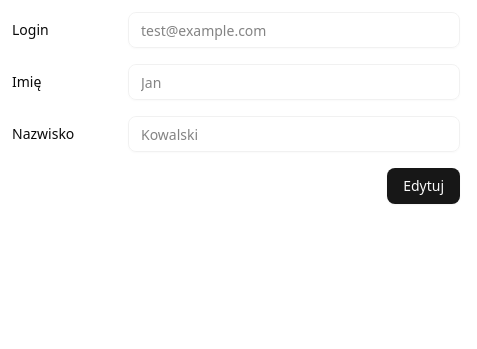
it: Komponent UserProfile › wyświetla błędy walidacji dla nieprawidłowego imienia
Click the button "Edytuj" at (424, 186), box [387, 168, 460, 204]
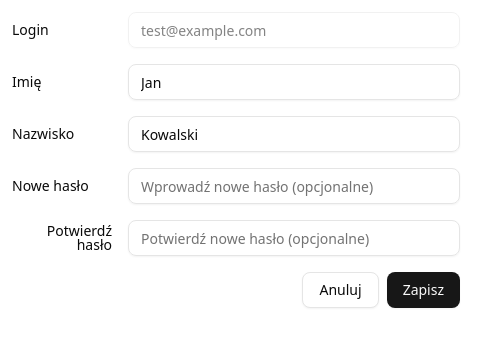
Replace the text in the field labelled "Imię" with "Jan12" at (294, 82), box [128, 64, 460, 100]
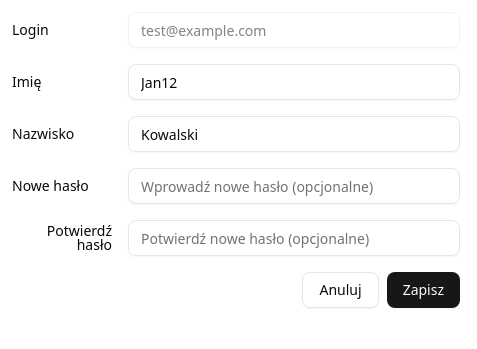
Click the button "Zapisz" at (423, 290), box [387, 272, 460, 308]
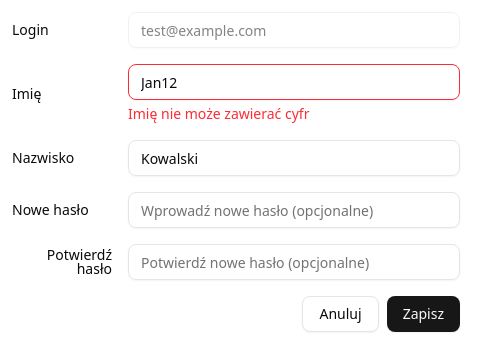
Expected: the text "Imię nie może zawierać cyfr" is shown, [128, 104, 310, 123]
